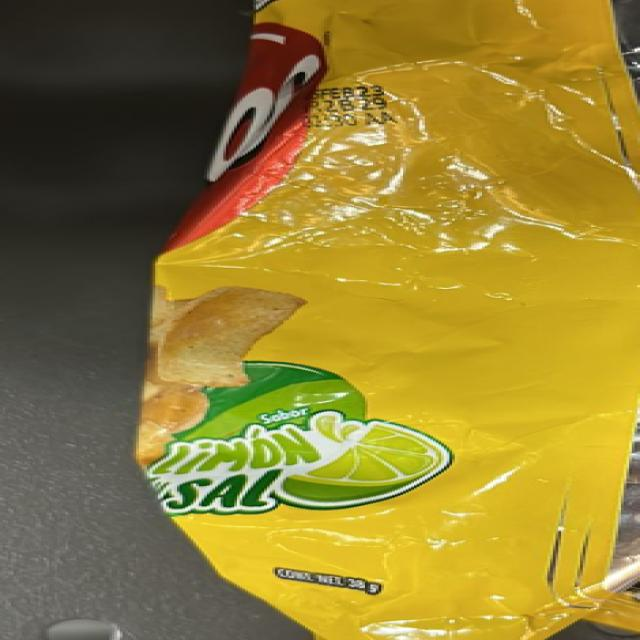fritosLimon: (153, 29, 635, 599)
